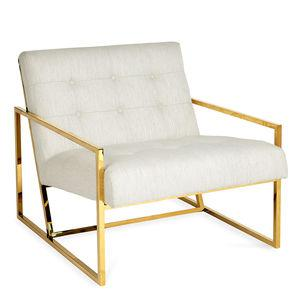chair: (9, 25, 294, 291)
